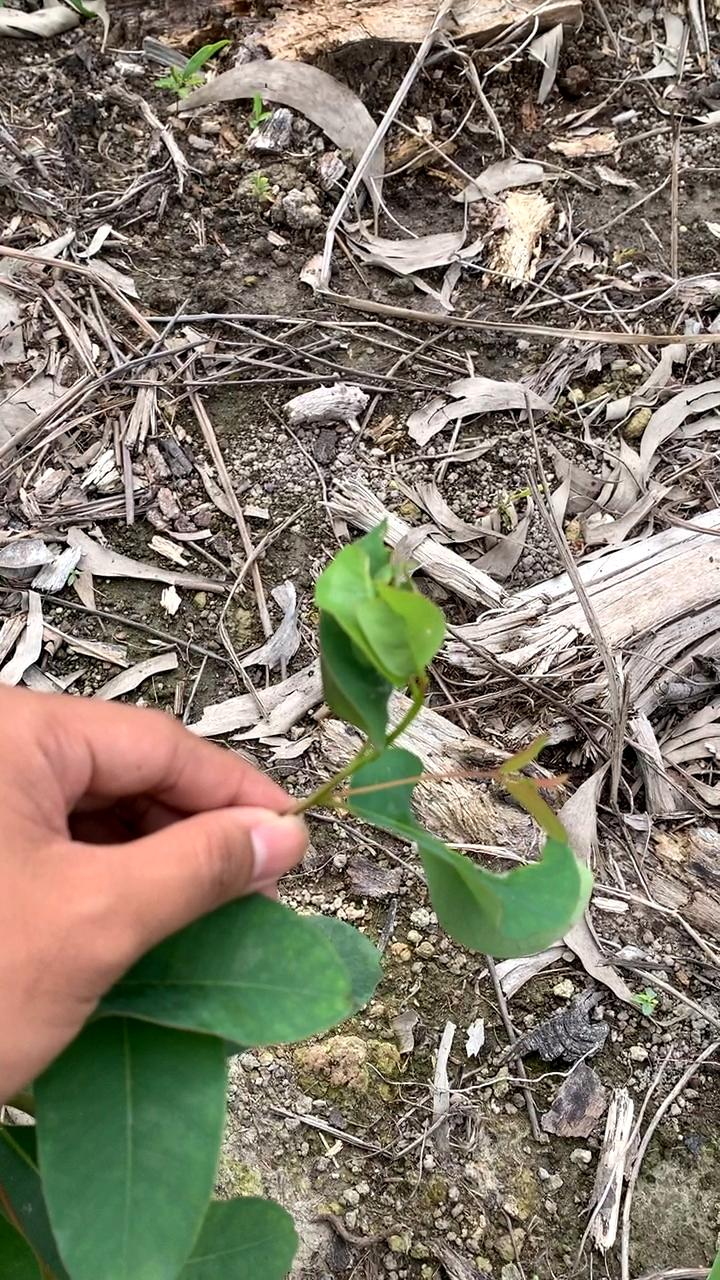Leaf Roller - Leaf: (303, 501, 473, 772)
